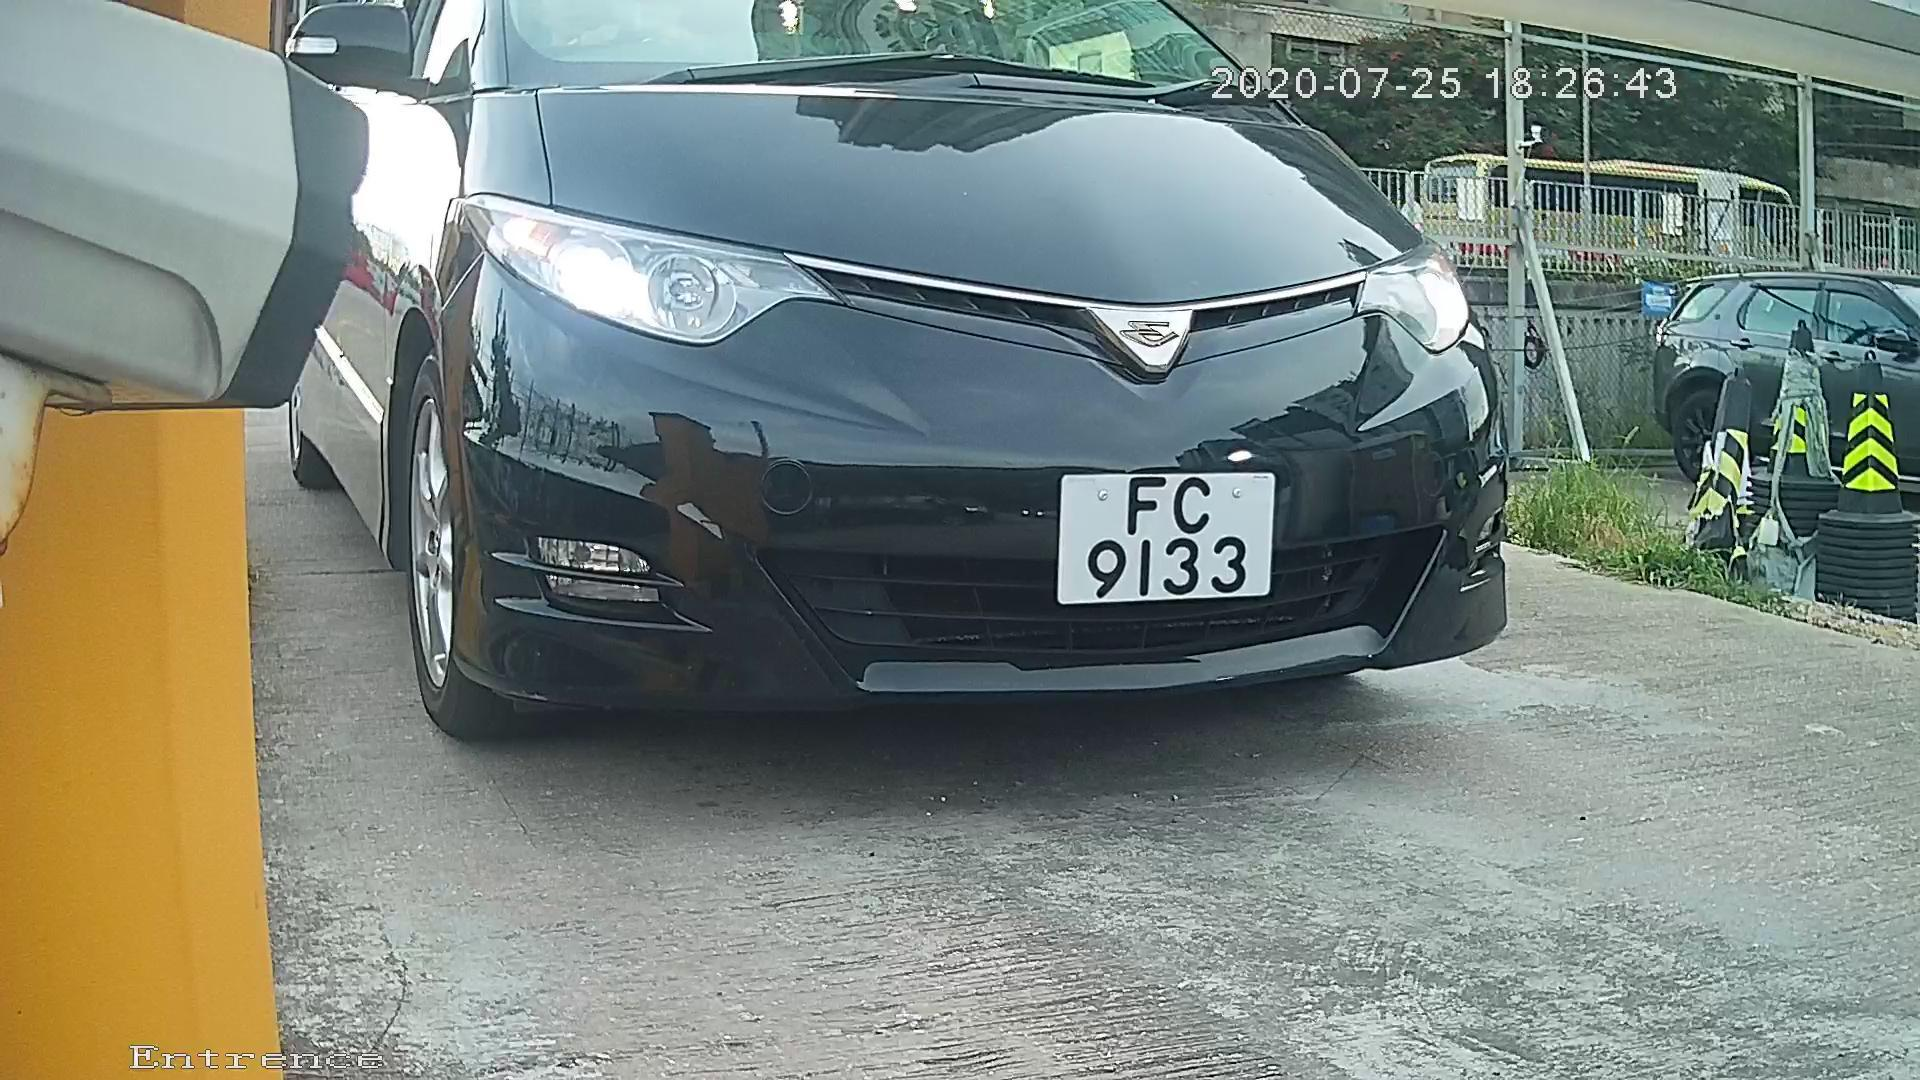privatecar: (206, 11, 1663, 800)
